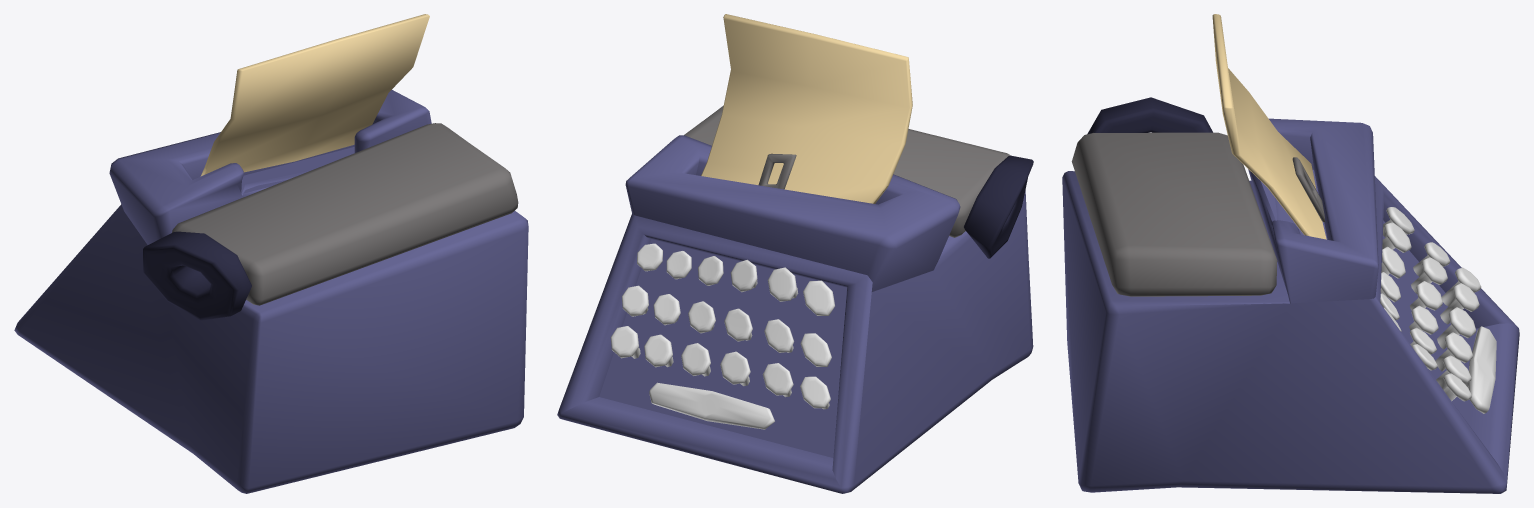
The model's file is props_typewritter.fbx.
3 renders of one model, left to right at view 1: azimuth 30°, elevation 25°; view 2: azimuth 150°, elevation 25°; view 3: azimuth 270°, elevation 25°, orthographic. The views are drawn at different scales.
Visible parts, largest first — view 1: Cube.103; view 2: Cube.103; view 3: Cube.103.
Part boxes in pixels (x1,y1,x2,y2): Cube.103: (14,14,528,493); Cube.103: (557,14,1033,493); Cube.103: (1062,14,1519,493).
Bounding box in the file's own units: 0.7065 × 0.7839 × 0.7147.
